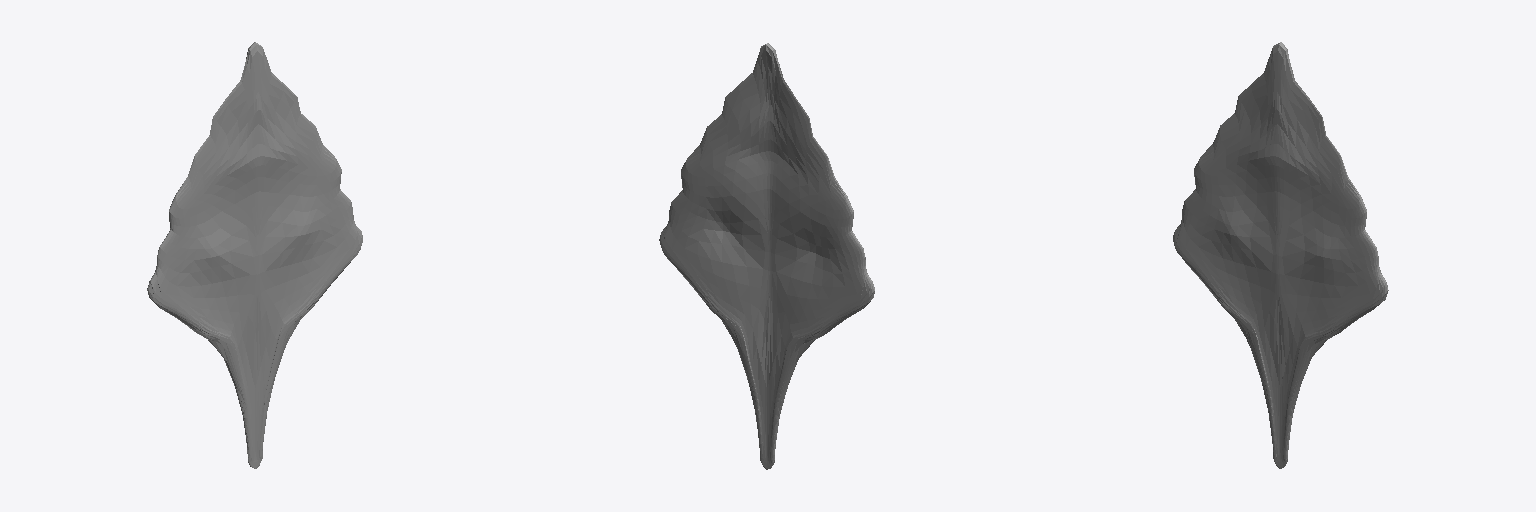
The model's file is SunflowerLeaf.obj.
3 views of the same model, side by side, from view 1: azimuth 30°, elevation 25°; view 2: azimuth 150°, elevation 25°; view 3: azimuth 330°, elevation 25° (orthographic).
Visible parts, largest first — view 1: Cube; view 2: Cube; view 3: Cube.
Part boxes in pixels (left/top/right/bottom): Cube: left=147, top=42, right=362, bottom=468; Cube: left=659, top=43, right=874, bottom=469; Cube: left=1173, top=42, right=1388, bottom=468.
Bounding box in the file's own units: 6.97 × 13.2 × 0.399.